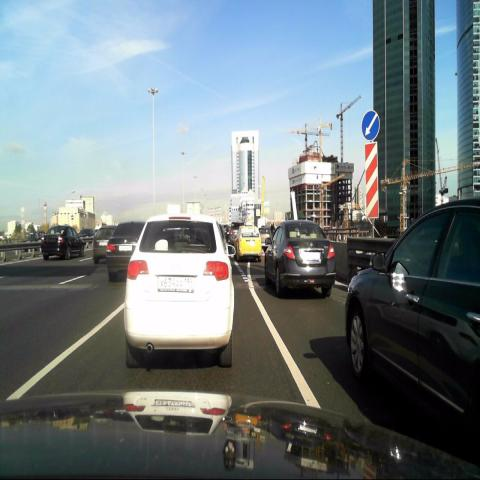4_2_2: (361, 108, 380, 141)
